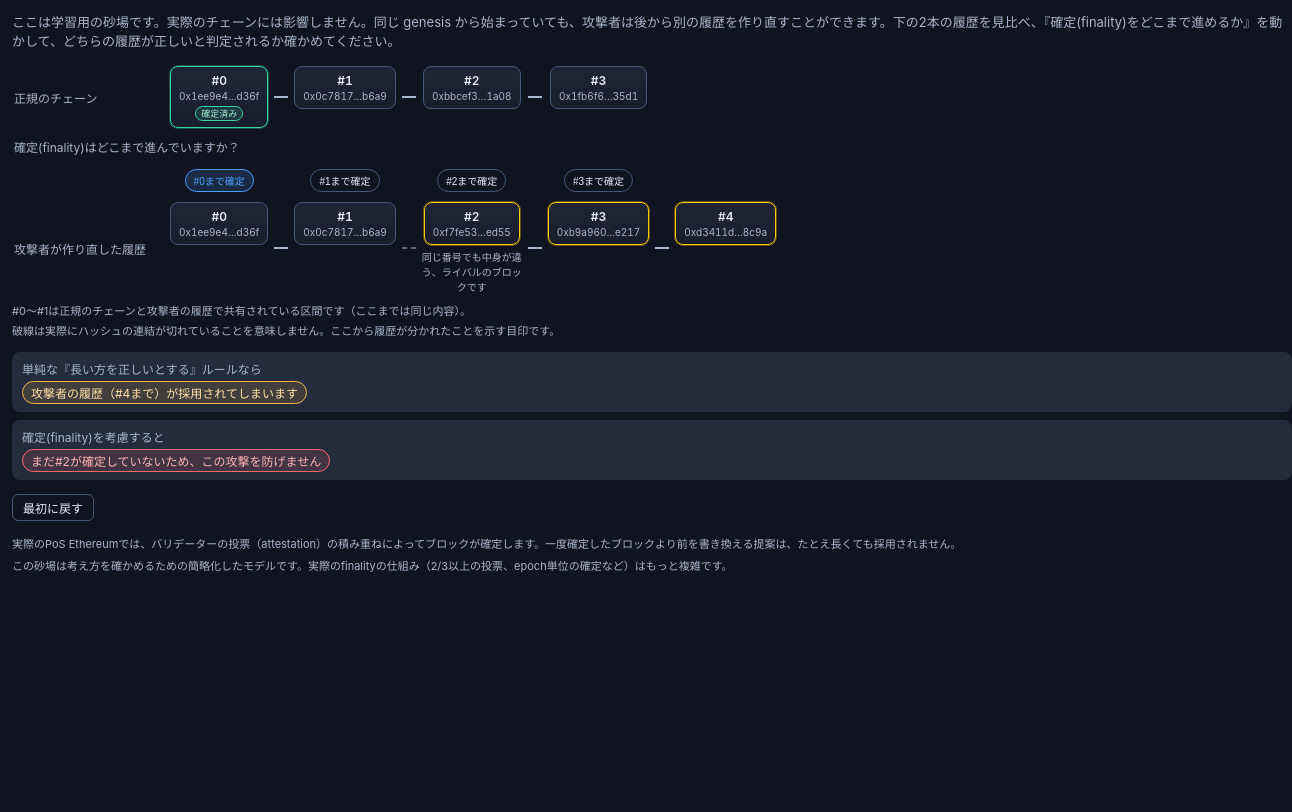
Test case: LongRangeAttackDemoView: reset › returns the checkpoint to 0 after it has been moved
Click the button with test id "long-range-demo-checkpoint-3". click: [599, 180]
box: [564,169,633,192]
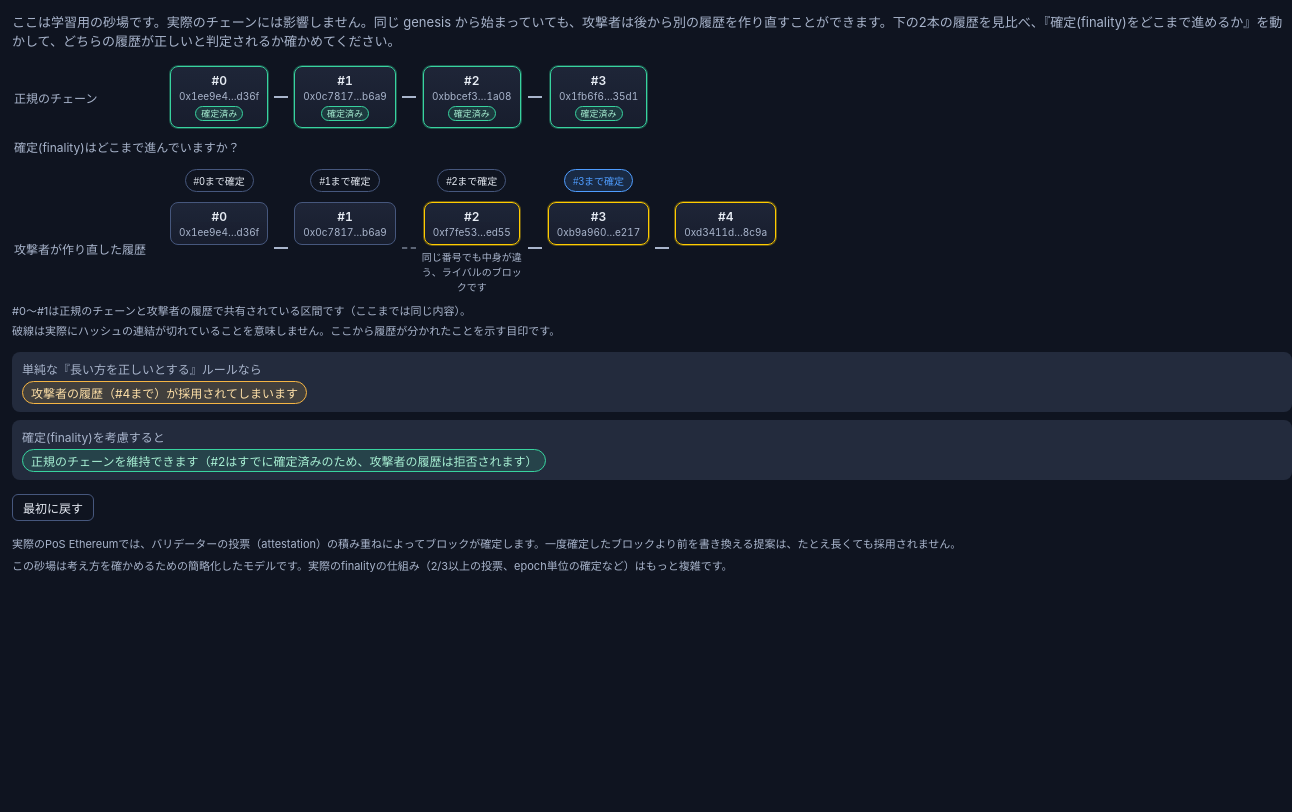
Now the button with test id "long-range-demo-checkpoint-3" is pressed, box [564,169,633,192]
Click the button with test id "long-range-demo-reset". click: [53, 508]
box: [12,494,94,521]
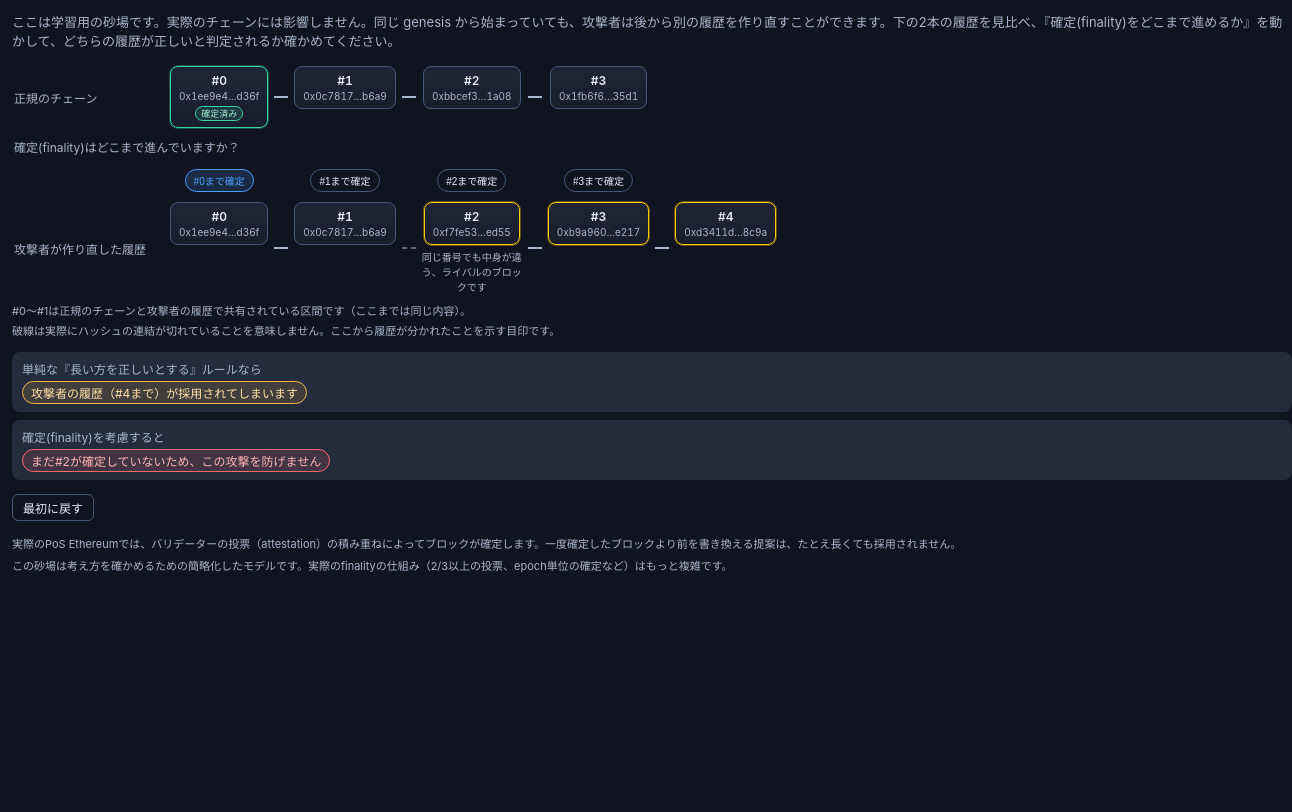
Now the text with test id "long-range-demo-verdict-finality" shows "防げません", box [31,454,321,469]
